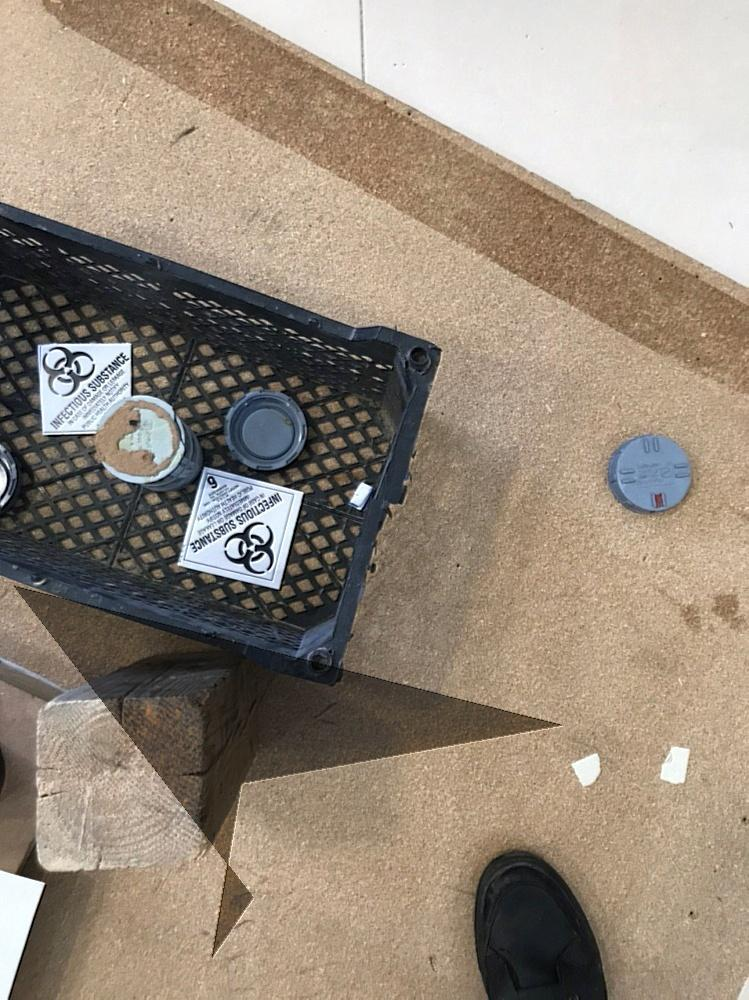infectious-substance: (174, 472, 304, 591), (39, 342, 131, 437)
